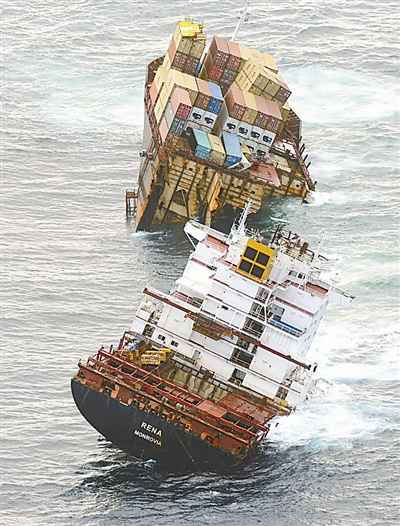Cargoship: (66, 210, 339, 477), (124, 20, 317, 235)
